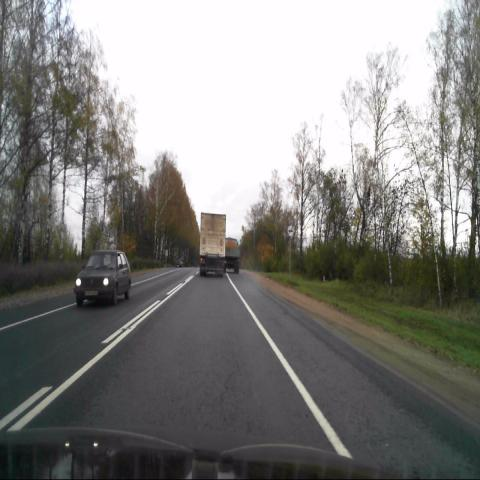3_21: (287, 225, 293, 236)
